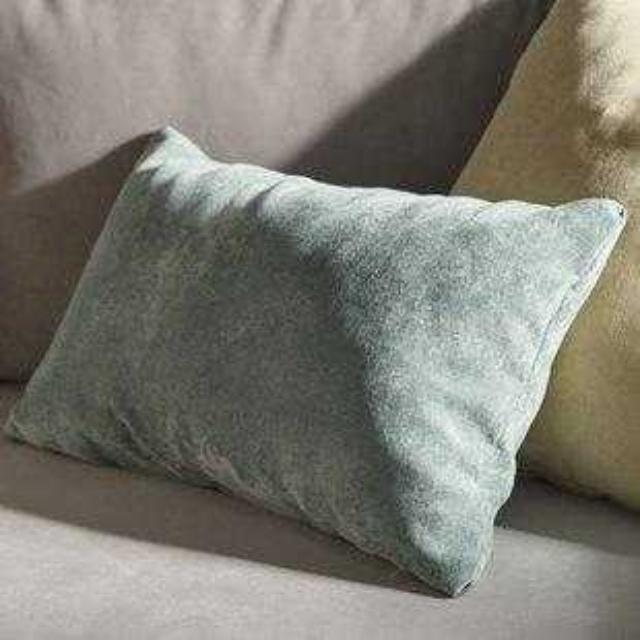pillow: (0, 122, 628, 598)
